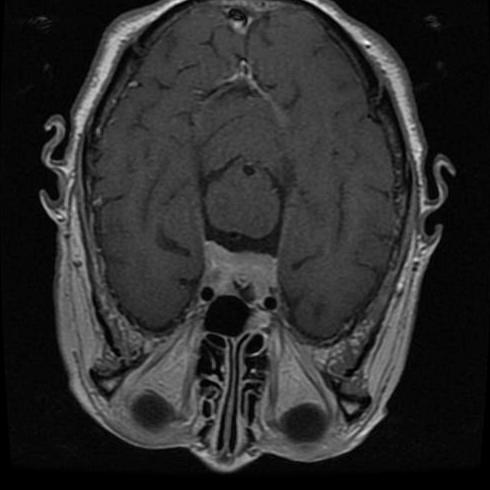Tumour-Pituitary: (193, 232, 293, 304)
